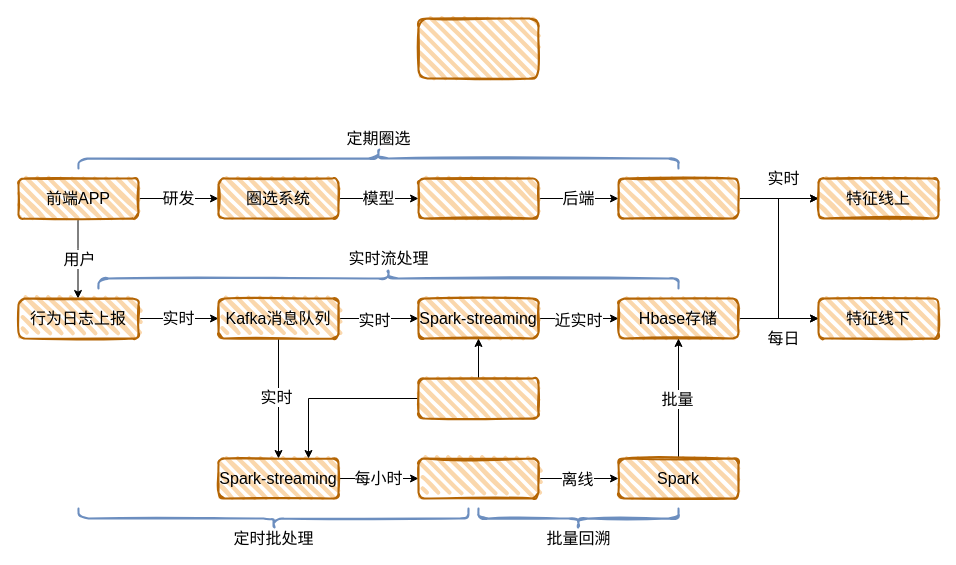
This 956x565 diagram has some shape labels left out. The shapes that lost their labels are listed below. From the top down, each one's centre as x and y in pixels, then its label:
pixel 478 48: APP埋点流程
pixel 478 198: 页面码值圈选
pixel 678 198: 码值映射表
pixel 478 398: 监控服务 （异常自动拉起）
pixel 478 478: HDFS备份
